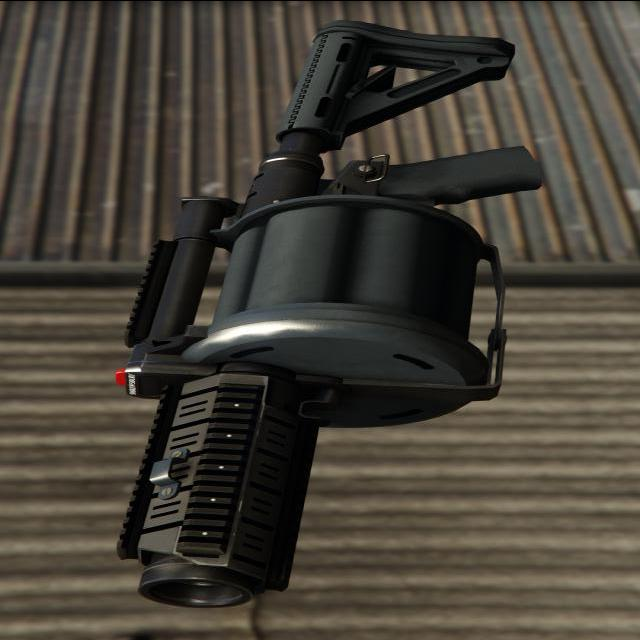rocket launcher: (80, 17, 553, 609)
